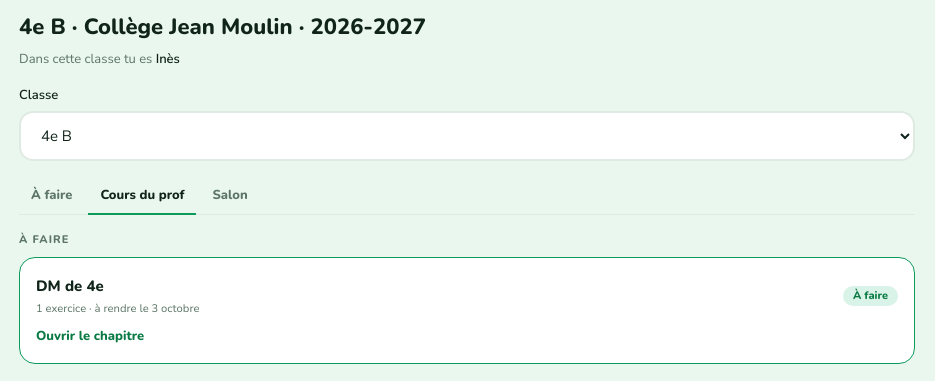
Test case: EspaceClasse › changing class changes the homework, which link to their chapter when it has one
This screenshot has width=935, height=381.
Expected: the text "DM de 4e" is shown, [36,276,104,296]
Expected: the text "DM de 3e" is not shown
Select "3e A" in the dropdown labelled "Classe" at x=467, y=136, box [19,111,915,161]
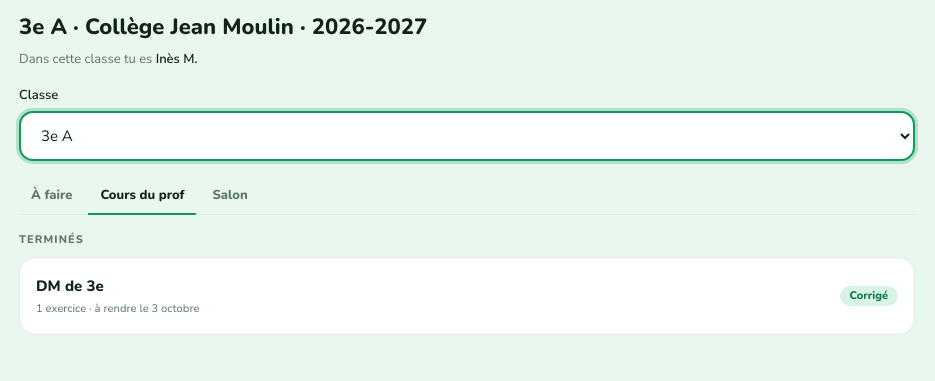
Result: the text "DM de 3e" is shown at [36,276,104,296]
Result: the text "Corrigé" is shown at [840,286,898,306]
Result: the link "Ouvrir le chapitre" is gone
